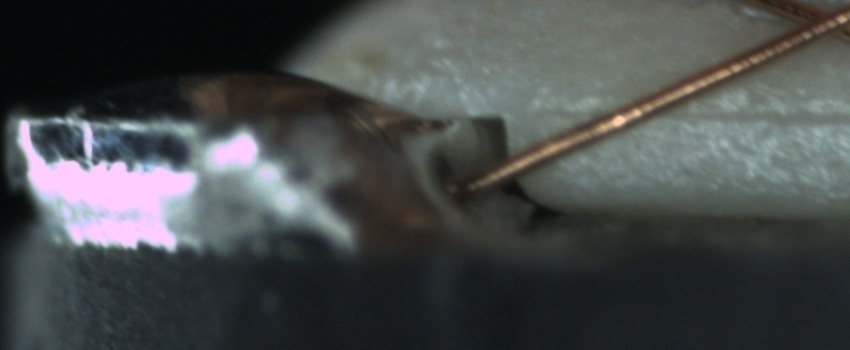CL: (771, 1, 850, 47)
DL: (559, 86, 849, 144)
